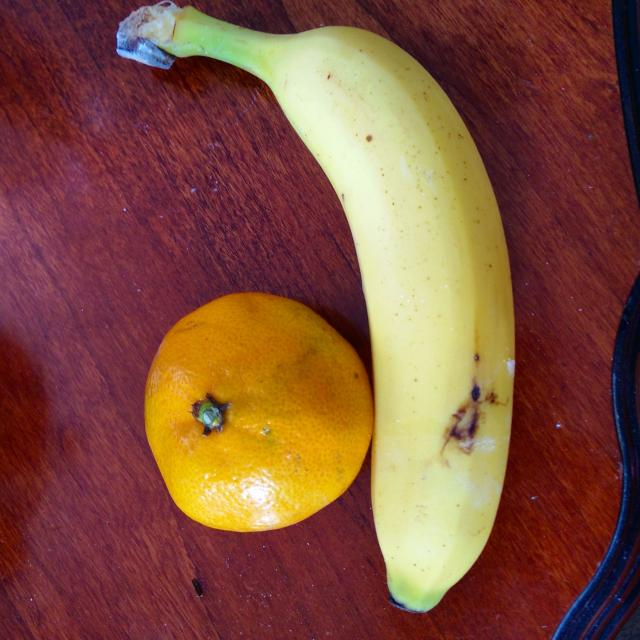Banana: (257, 0, 518, 625)
Orange: (133, 284, 369, 534)
